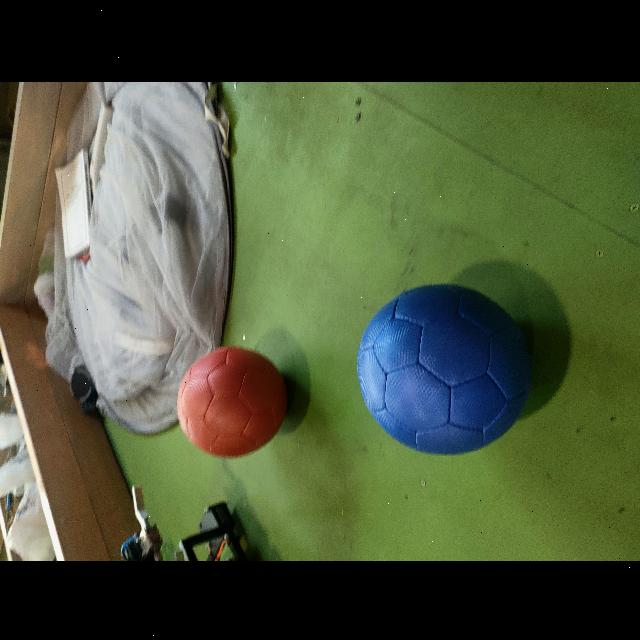B: (358, 281, 536, 454)
R: (177, 344, 292, 458)
